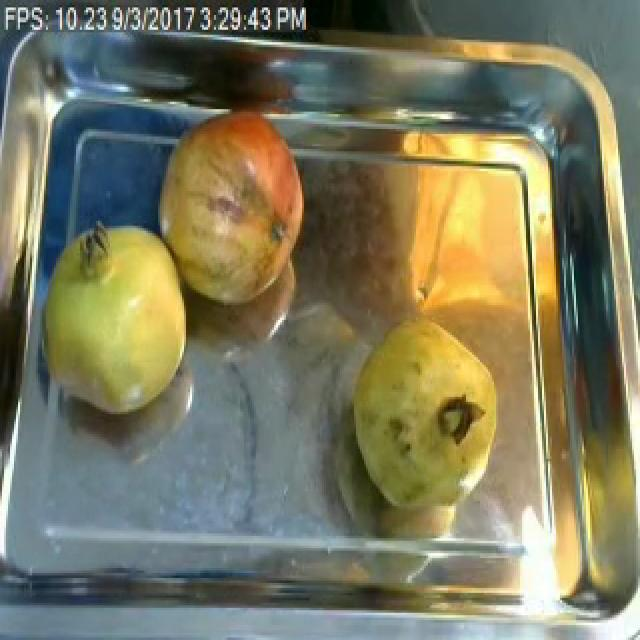fruit: (340, 300, 512, 526), (30, 213, 198, 432), (148, 102, 314, 315)
